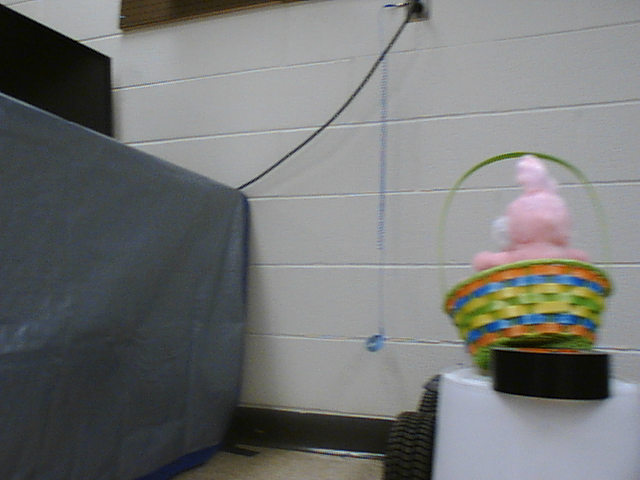bunny: (426, 140, 623, 376)
